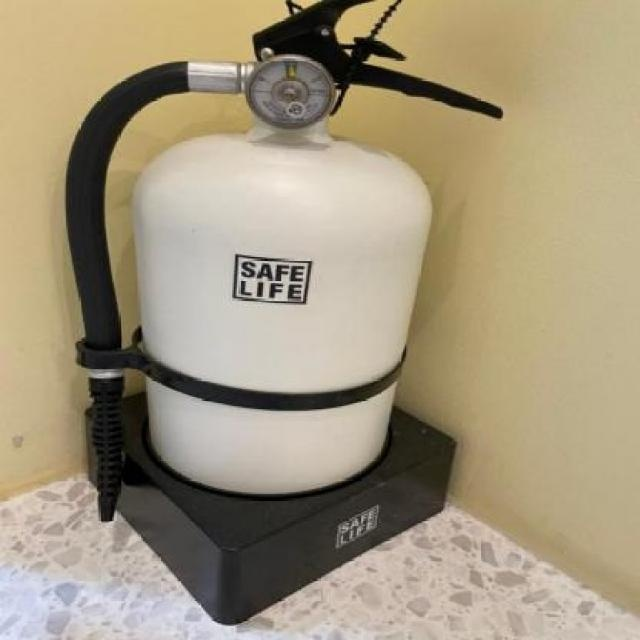fire extinguisher: (65, 0, 506, 523)
